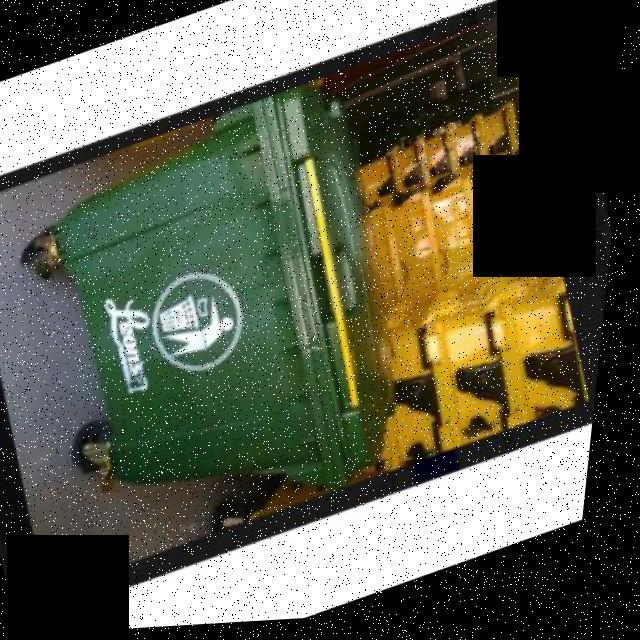bin: (0, 66, 472, 585)
